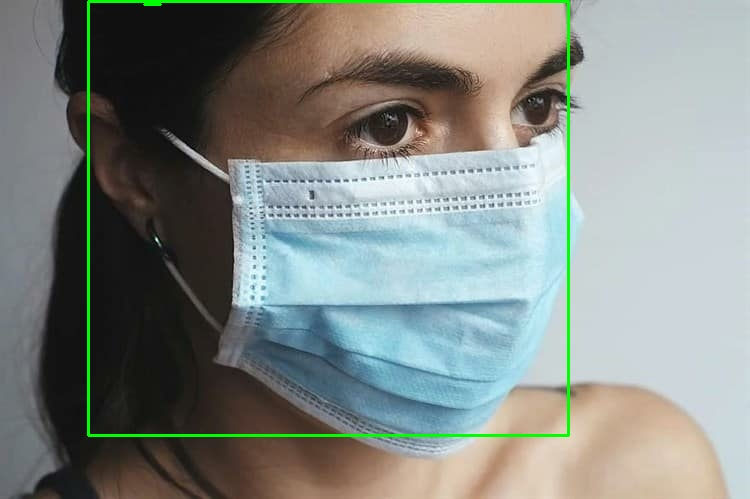with_mask: (80, 3, 644, 460)
